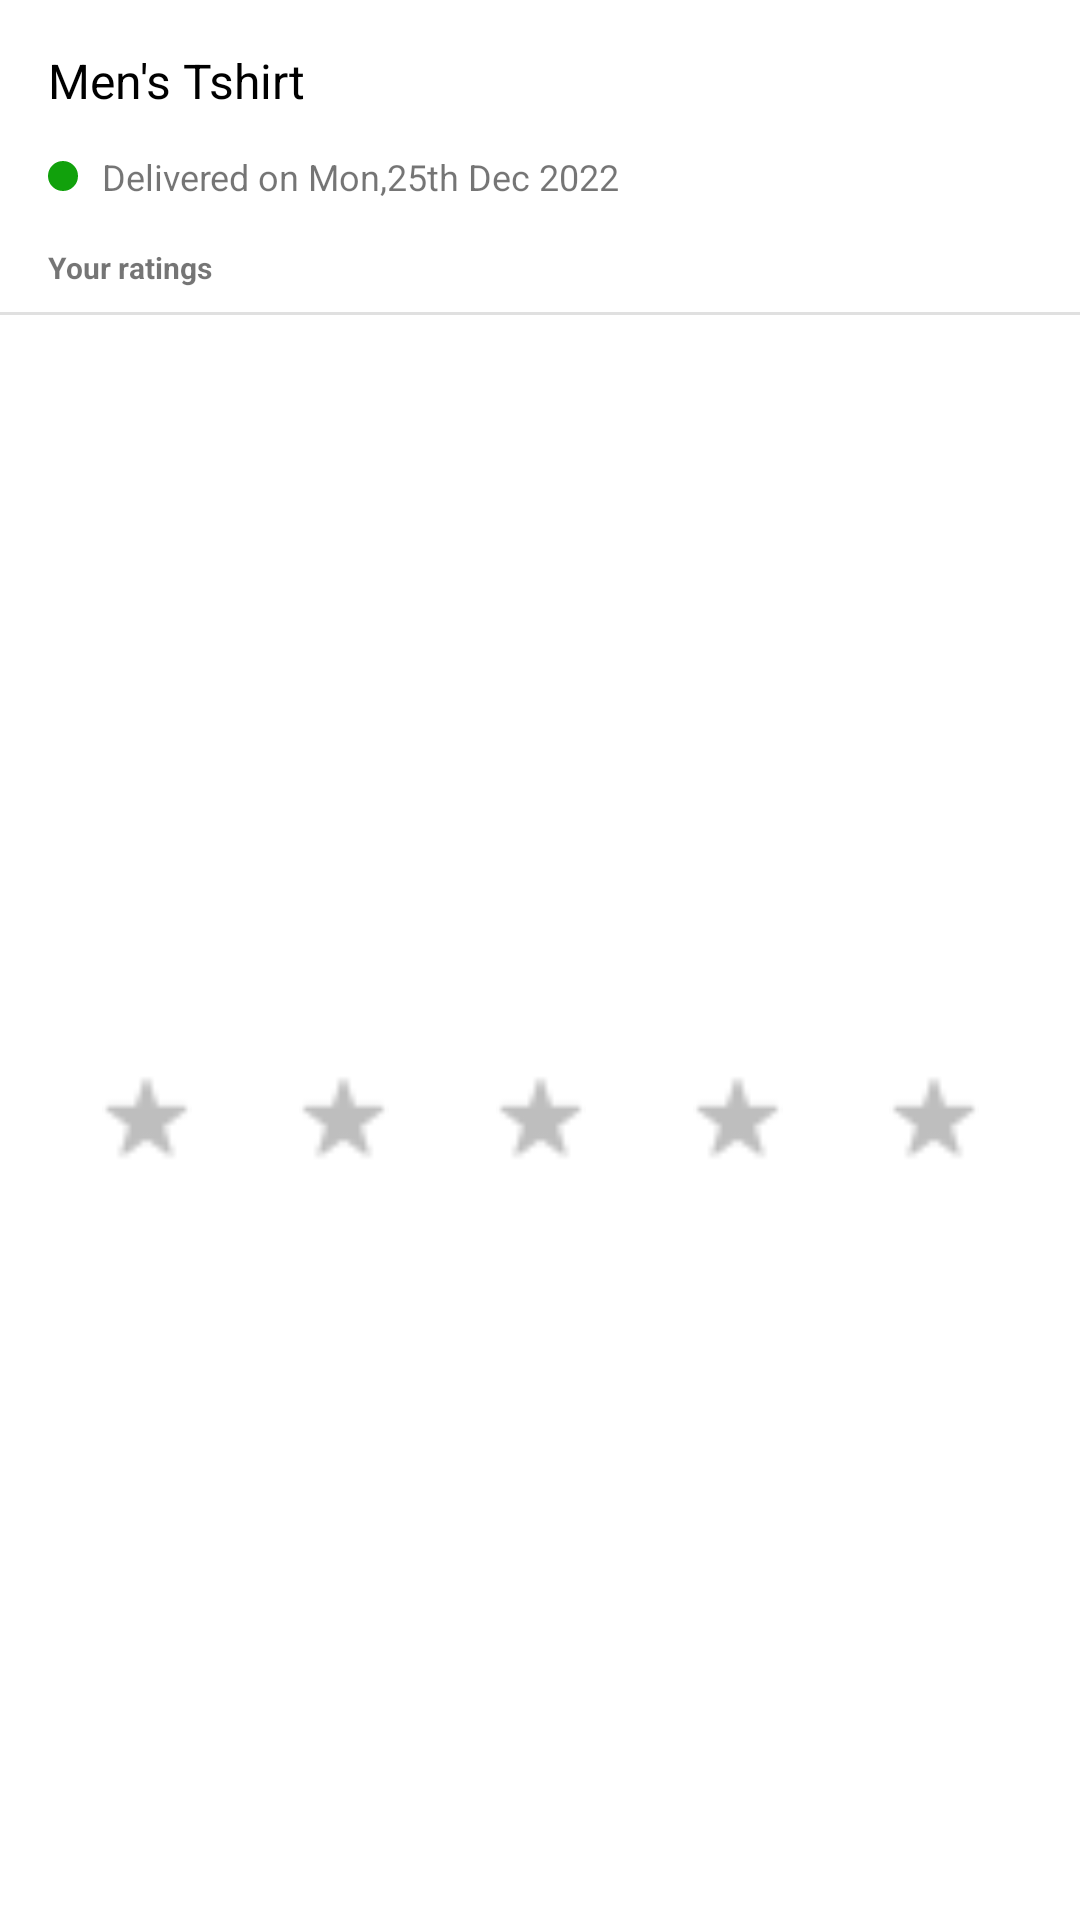

Point at icon controls on the screen. Image size 1080px×1920px, points as (x=x, y=y).
dot: (x=63, y=176)
star: (x=146, y=1117), (x=343, y=1117), (x=540, y=1117), (x=737, y=1117), (x=934, y=1117)
